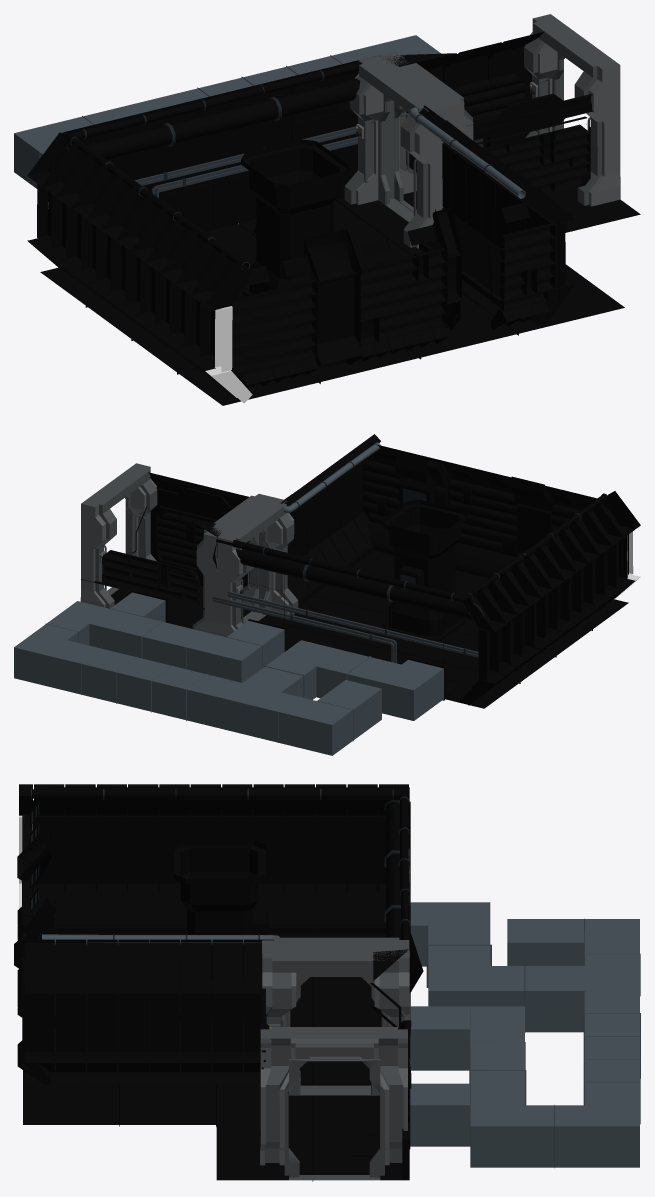
The model's file is ROOMKEY_Vents.fbx.
3 views of the same model, one above another, from view 1: azimuth 30°, elevation 25°; view 2: azimuth 150°, elevation 25°; view 3: azimuth 270°, elevation 25° (orthographic). The views are drawn at different scales.
Visible parts, largest first — view 1: Plane.014, Main.016, Cube.237, ROOMKEY_1.002, ROOMKEY_Vents, Cube.079, MainTonel.097, ROOMKEY_1.001, Cube.102, Cube.090, Cube.100, MainTonel.089 (+65 smaller); view 2: Cube.079, Main.016, Plane.014, Cube.237, ROOMKEY_Vents, ROOMKEY_1.002, MainTonel.097, ROOMKEY_1.001, Cube.090, Cube.102, MainTonel.089, Cube.122 (+43 smaller); view 3: Cube.079, Main.016, ROOMKEY_Vents, Cube.237, Plane.014, ROOMKEY_1.001, ROOMKEY_1.002, MainTonel.090, Cube.140, Cube.113, Cube.116, Cube.119 (+55 smaller).
Part boxes in pixels (x1=…): Plane.014: x1=62, y1=32, x2=590, y2=328; Main.016: x1=40, y1=187, x2=640, y2=405; Cube.237: x1=241, y1=139, x2=348, y2=295; ROOMKEY_1.002: x1=344, y1=56, x2=446, y2=248; ROOMKEY_Vents: x1=524, y1=14, x2=620, y2=206; Cube.079: x1=14, y1=35, x2=483, y2=188; MainTonel.097: x1=52, y1=78, x2=360, y2=170; ROOMKEY_1.001: x1=377, y1=51, x2=473, y2=216; Cube.102: x1=316, y1=273, x2=359, y2=353; Cube.090: x1=467, y1=93, x2=592, y2=140; Cube.100: x1=303, y1=229, x2=361, y2=282; MainTonel.089: x1=66, y1=85, x2=263, y2=143; Cube.079: x1=14, y1=592, x2=443, y2=755; Main.016: x1=111, y1=550, x2=628, y2=708; Plane.014: x1=81, y1=442, x2=628, y2=704; Cube.237: x1=382, y1=499, x2=467, y2=641; ROOMKEY_Vents: x1=80, y1=463, x2=157, y2=608; ROOMKEY_1.002: x1=217, y1=497, x2=298, y2=636; MainTonel.097: x1=217, y1=546, x2=484, y2=620; ROOMKEY_1.001: x1=192, y1=494, x2=272, y2=634; Cube.090: x1=156, y1=487, x2=235, y2=519; Cube.102: x1=517, y1=503, x2=553, y2=553; MainTonel.089: x1=310, y1=559, x2=471, y2=602; Cube.122: x1=478, y1=628, x2=498, y2=680; Cube.079: x1=410, y1=902, x2=640, y2=1167; Main.016: x1=23, y1=933, x2=402, y2=1181; ROOMKEY_Vents: x1=260, y1=1027, x2=407, y2=1180; Cube.237: x1=174, y1=840, x2=265, y2=1021; Plane.014: x1=23, y1=787, x2=423, y2=1180; ROOMKEY_1.001: x1=262, y1=949, x2=409, y2=1095; ROOMKEY_1.002: x1=262, y1=937, x2=410, y2=1090; MainTonel.090: x1=176, y1=788, x2=393, y2=799; Cube.140: x1=65, y1=815, x2=95, y2=883; Cube.113: x1=284, y1=815, x2=314, y2=883; Cube.116: x1=316, y1=815, x2=346, y2=883; Cube.119: x1=347, y1=815, x2=377, y2=883.
Size of the model in its own units: 10.26 by 2.61 by 10.08.
